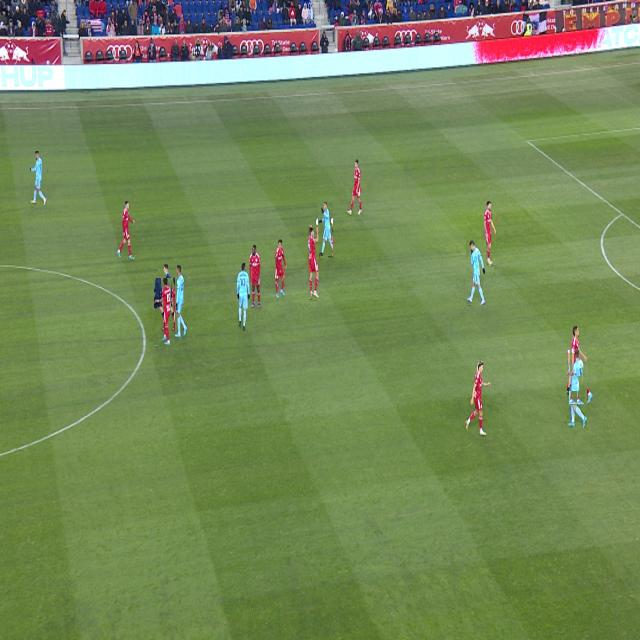football: (315, 218, 320, 227)
player: (466, 360, 491, 436), (567, 350, 587, 428), (466, 241, 486, 305), (154, 279, 171, 345), (117, 201, 135, 260), (30, 151, 47, 206), (175, 265, 187, 338), (237, 263, 250, 330), (347, 159, 362, 215), (318, 202, 333, 256), (571, 326, 587, 376), (484, 202, 496, 265), (249, 245, 261, 307), (309, 226, 319, 298), (275, 239, 287, 298), (585, 380, 593, 404), (570, 391, 577, 405)
referee: (159, 265, 176, 331)
